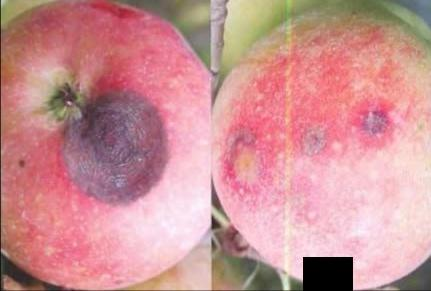rotten apple: (214, 4, 428, 288), (0, 3, 210, 287)
